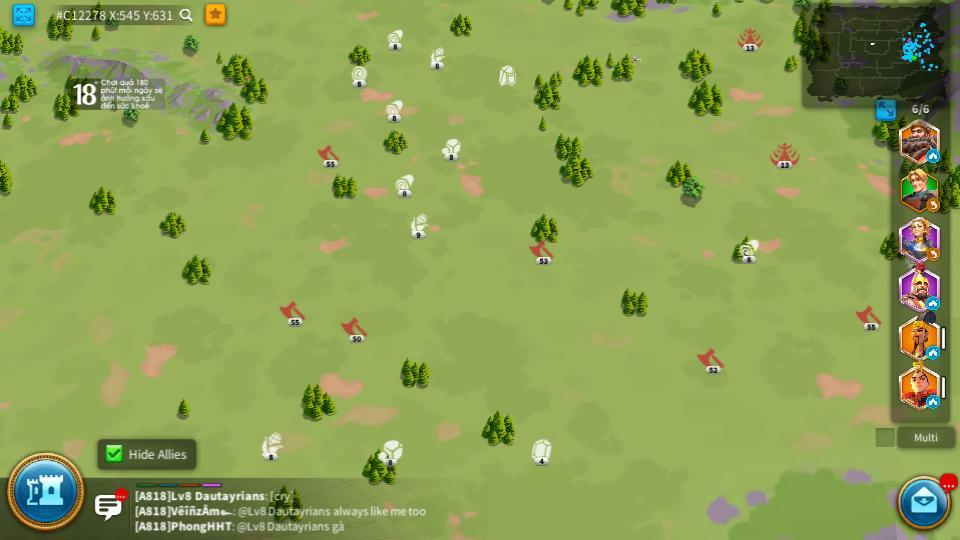gem-z-out: (529, 438, 554, 464)
march_idle: (926, 396, 941, 407), (926, 150, 940, 161), (927, 348, 940, 359), (925, 297, 938, 307)
march_returning: (925, 248, 941, 261), (927, 201, 940, 212)
